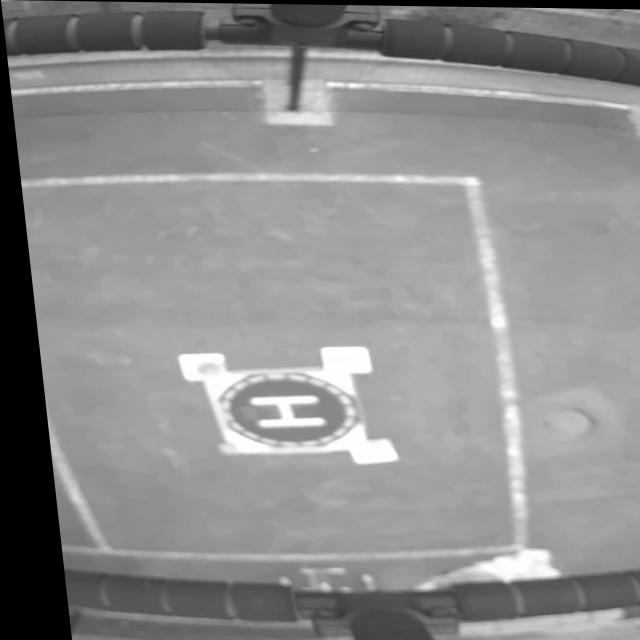Helipad: (240, 394, 315, 428)
